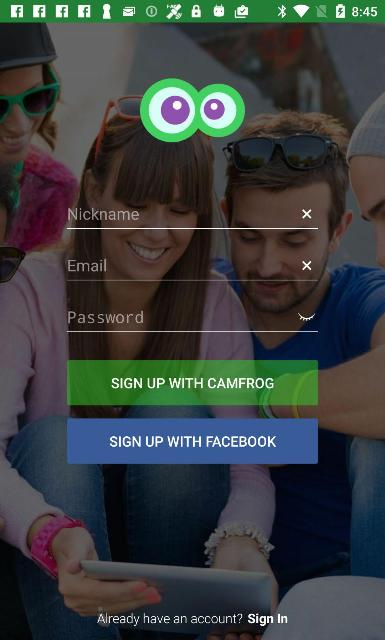BackgroundImage: (0, 22, 384, 640)
EditText: (66, 259, 318, 281), (66, 310, 318, 332), (66, 208, 318, 228)
Icon: (299, 313, 316, 321), (302, 260, 312, 270), (302, 209, 312, 219)
Image: (140, 78, 245, 142)
Text: (97, 612, 288, 626), (109, 437, 276, 448), (112, 378, 274, 388), (69, 310, 143, 324), (69, 208, 139, 220), (68, 258, 106, 272)
TextButton: (66, 418, 318, 464), (66, 360, 318, 404)
UpperTaskBar: (0, 0, 384, 22)
